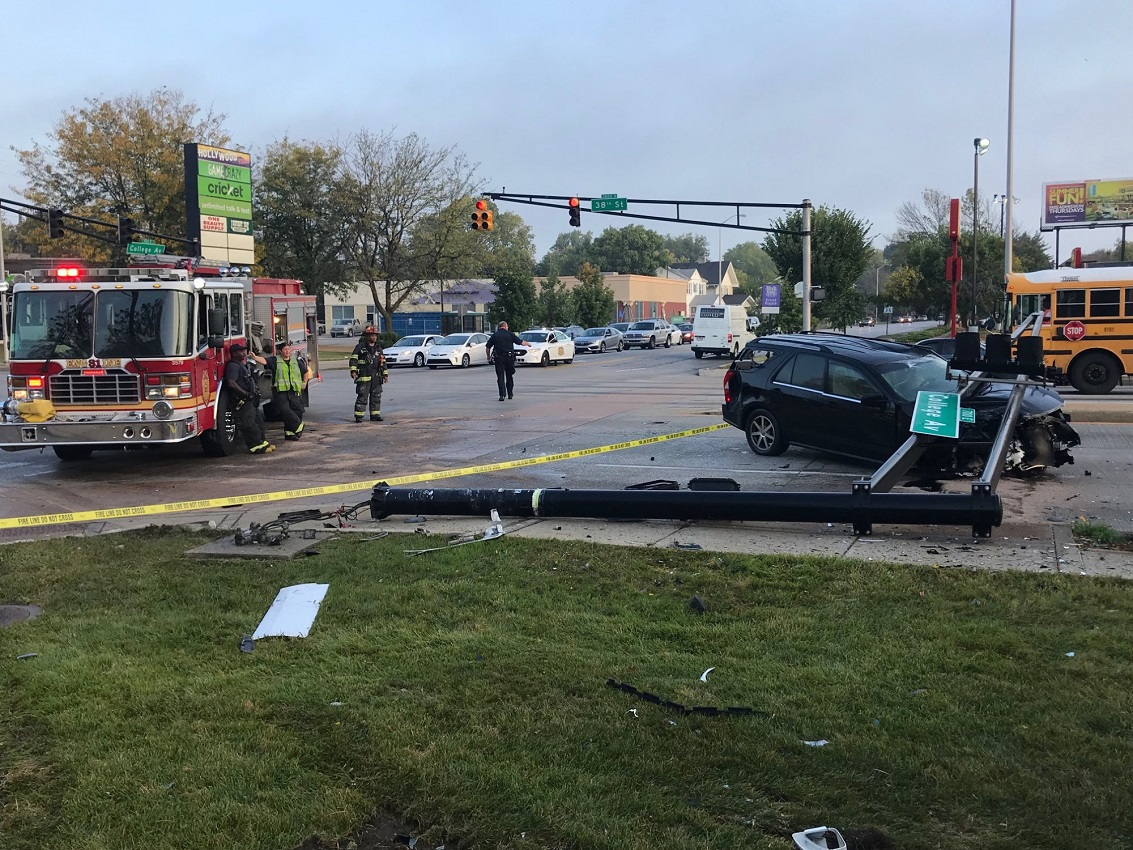traffic_light: (469, 198, 495, 233), (567, 196, 582, 229)
